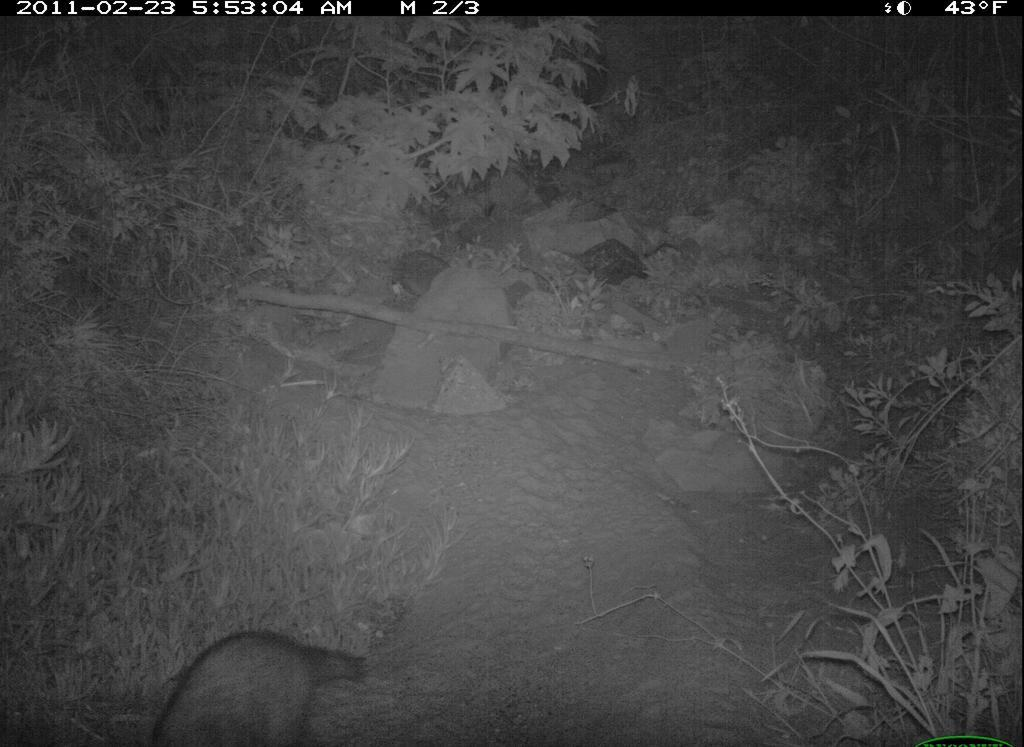raccoon: (136, 620, 374, 744)
